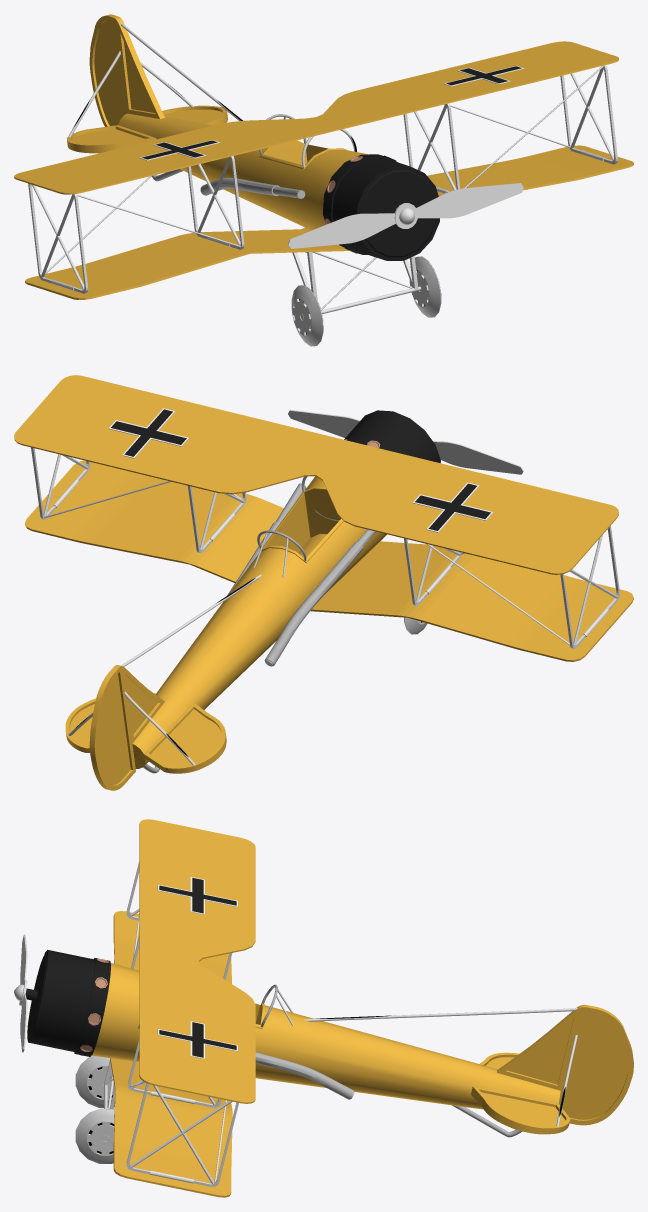
Rendered from airplane.glb.
3 renders of one model, top to bottom at view 1: azimuth 30°, elevation 25°; view 2: azimuth 150°, elevation 25°; view 3: azimuth 270°, elevation 25°, orthographic. The views are drawn at different scales.
Parts seen in each view (by area): view 1: plane, wing_top, wing_bottom, prop, tires, wing_support_pannel_left, wing_support_pannel_right, cross, pipe_left, BezierCurve.002; view 2: wing_top, wing_bottom, plane, cross, wing_support_pannel_left, prop, wing_support_pannel_right, pipe_left, pipe_right; view 3: plane, wing_top, wing_bottom, tires, wing_support_pannel_right, cross, pipe_right, BezierCurve.002, prop, wing_support_pannel_left.
Part boxes in pixels (box(x1,y1,x2,y2)): plane: box(67, 14, 439, 260); wing_top: box(14, 41, 618, 194); wing_bottom: box(25, 145, 633, 299); prop: box(288, 183, 523, 248); tires: box(291, 252, 441, 346); wing_support_pannel_left: box(28, 156, 244, 293); wing_support_pannel_right: box(403, 65, 617, 193); cross: box(140, 65, 524, 160); pipe_left: box(200, 177, 305, 198); BezierCurve.002: box(120, 22, 242, 121); wing_top: box(14, 375, 618, 574); wing_bottom: box(25, 460, 633, 661); plane: box(65, 410, 440, 790); cross: box(108, 408, 493, 532); wing_support_pannel_left: box(404, 526, 619, 648); prop: box(288, 410, 523, 474); wing_support_pannel_right: box(31, 447, 246, 553); pipe_left: box(264, 529, 375, 666); pipe_right: box(227, 483, 306, 595); plane: box(25, 950, 633, 1134); wing_top: box(139, 819, 255, 1103); wing_bottom: box(110, 911, 232, 1197); tires: box(75, 1055, 114, 1163); wing_support_pannel_right: box(126, 1038, 238, 1186); cross: box(157, 877, 237, 1059); pipe_right: box(138, 1024, 354, 1099); BezierCurve.002: box(304, 1008, 577, 1021); prop: box(14, 934, 27, 1052); wing_support_pannel_left: box(126, 861, 232, 979).
Size of the model in its own units: 13.22 by 4.37 by 13.07.
Materials: 2 (2 with a texture image).
